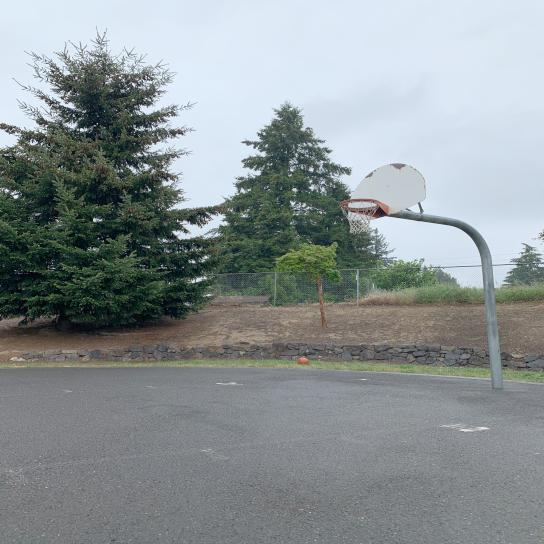basketball-hoop: (338, 197, 382, 235)
